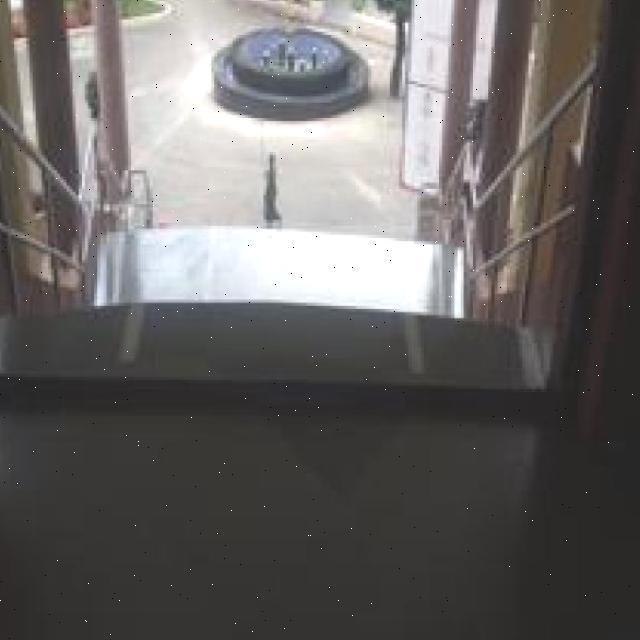stair: (112, 253, 430, 374)
